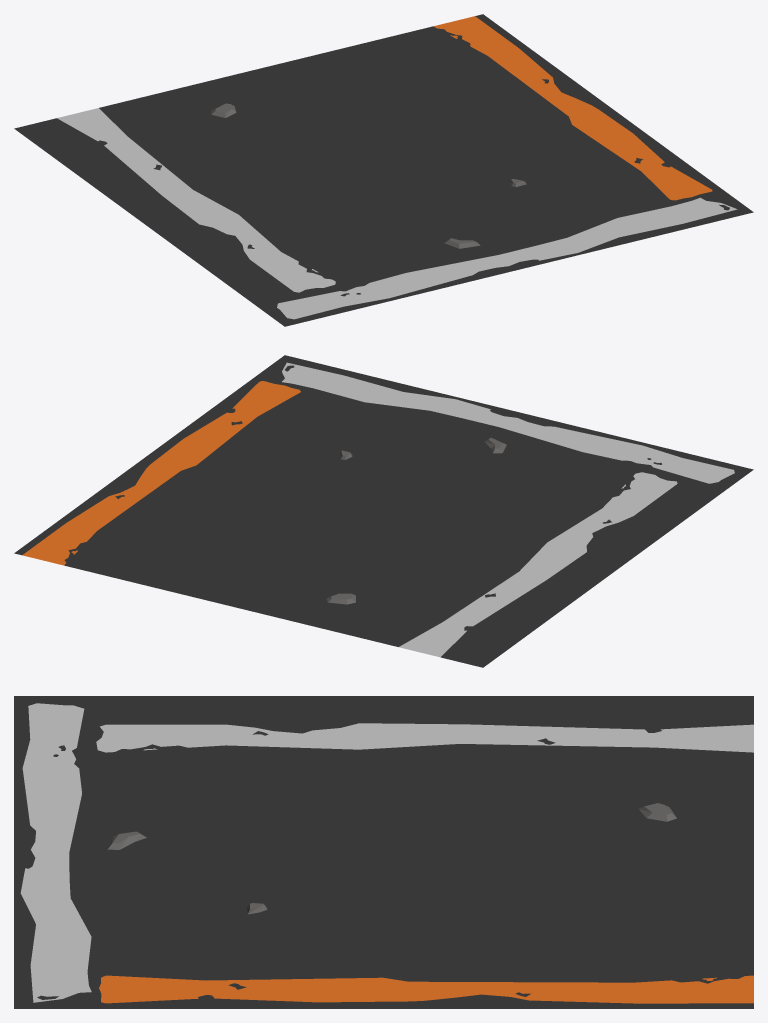
File: Asphalt_12.FBX
The picture shows the model from 3 angles, top to bottom: view 1: azimuth 30°, elevation 25°; view 2: azimuth 150°, elevation 25°; view 3: azimuth 270°, elevation 25°; orthographic projection. The views are drawn at different scales.
Parts seen in each view (by area): view 1: Asphalt_12; view 2: Asphalt_12; view 3: Asphalt_12.
Part boxes in pixels (x1,y1,x2,y2): Asphalt_12: [14, 14, 753, 326]; Asphalt_12: [14, 355, 753, 667]; Asphalt_12: [14, 696, 753, 1008].
Bounding box in the file's own units: 5 × 0.03 × 5.
